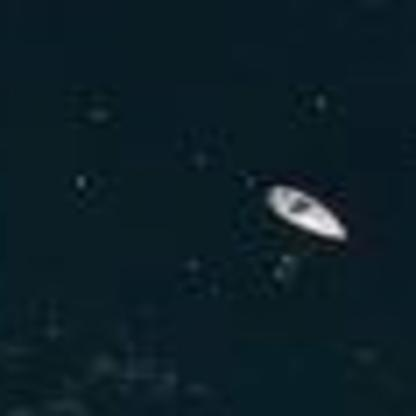ship: (254, 172, 354, 245)
